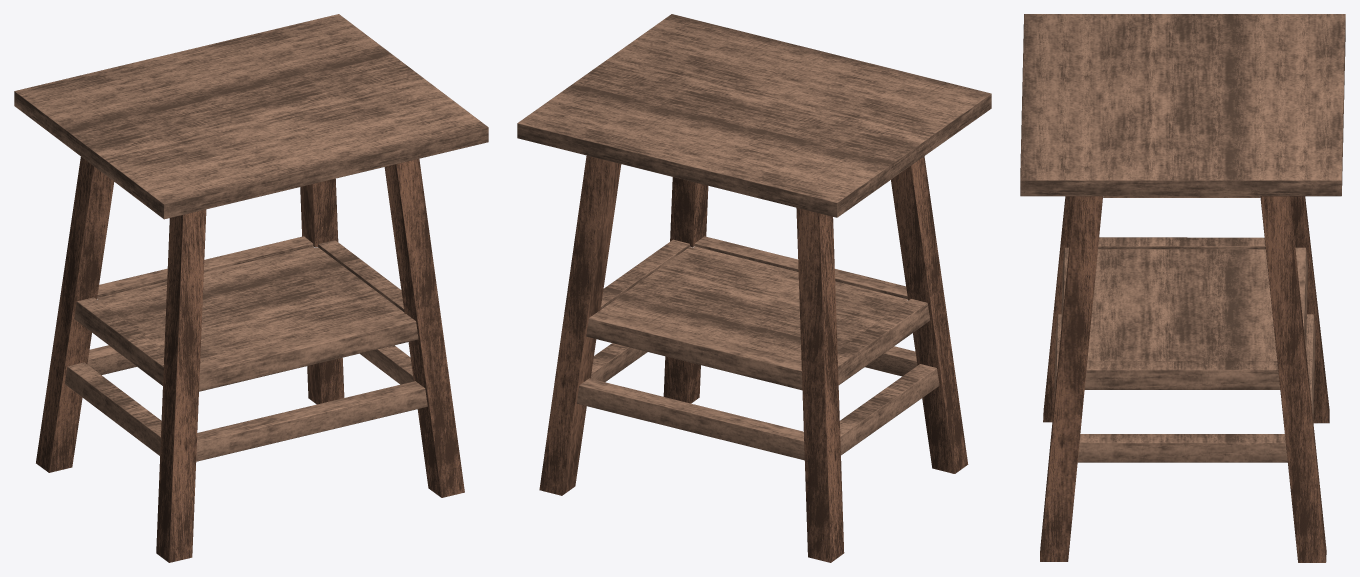
File: wood_end_table.gltf
The picture shows the model from 3 angles, left to right: view 1: azimuth 30°, elevation 25°; view 2: azimuth 150°, elevation 25°; view 3: azimuth 270°, elevation 25°; orthographic projection. The views are drawn at different scales.
Parts seen in each view (by area): view 1: Mesh; view 2: Mesh; view 3: Mesh.
Boxes of the visible parts, bbox=[...] form: Mesh: bbox=[14, 14, 488, 562]; Mesh: bbox=[517, 14, 991, 562]; Mesh: bbox=[1020, 14, 1345, 562].
Bounding box in the file's own units: 0.56 × 0.6083 × 0.4597.
1 material, 1 textured.
